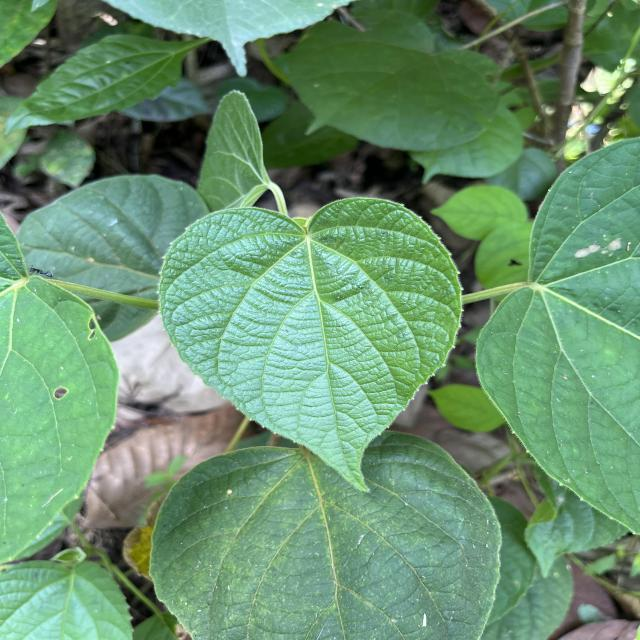Clerodendrum infortunatum: (156, 196, 474, 498)
